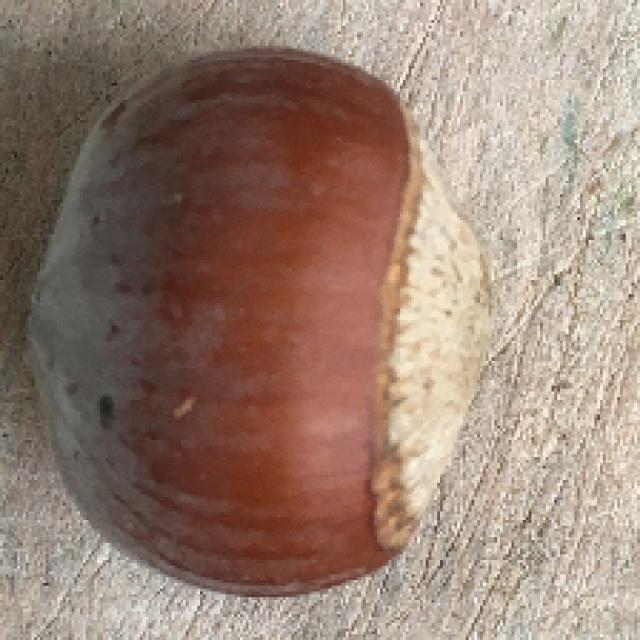qualityHazelnut: (16, 46, 502, 601)
